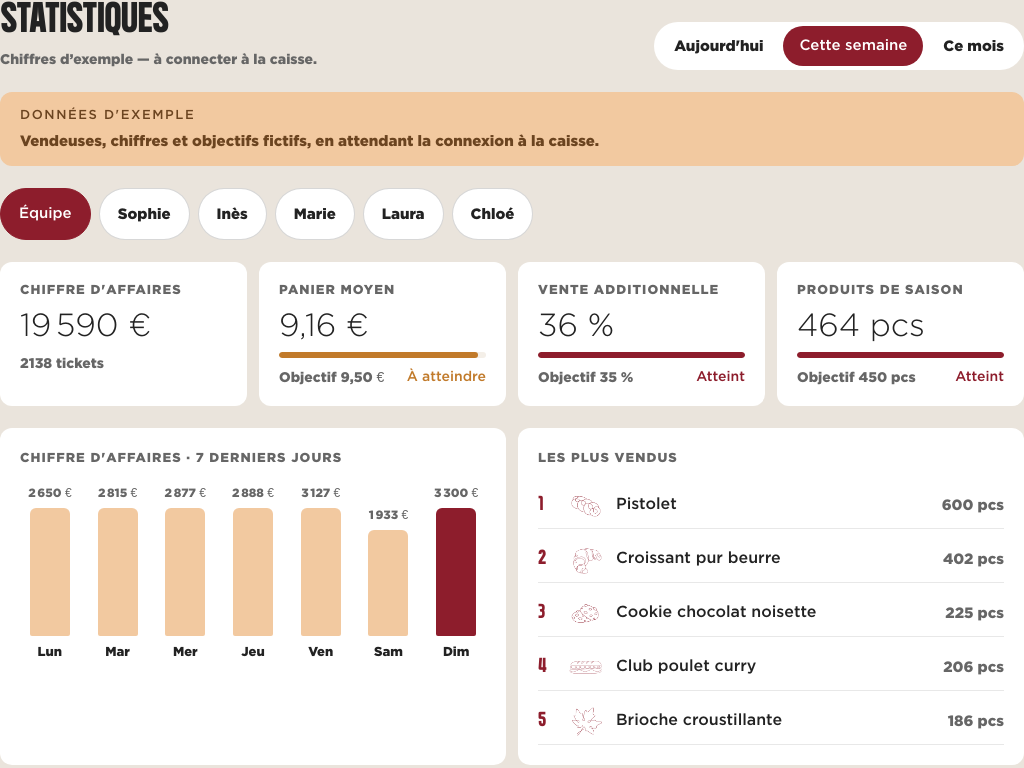
StatsView › period and seller chip update the store and the figures
Click the button "Aujourd'hui" at point(719, 46), box [658,26,779,66]
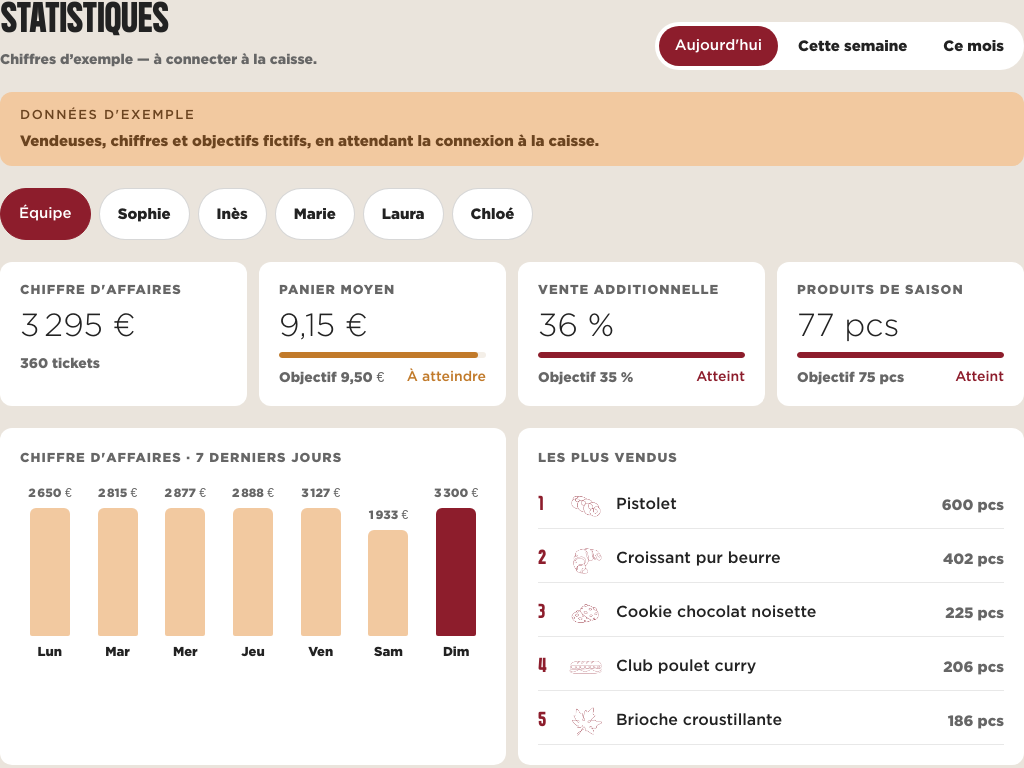
Click the button "Laura" at point(403, 214), box [363,188,444,240]
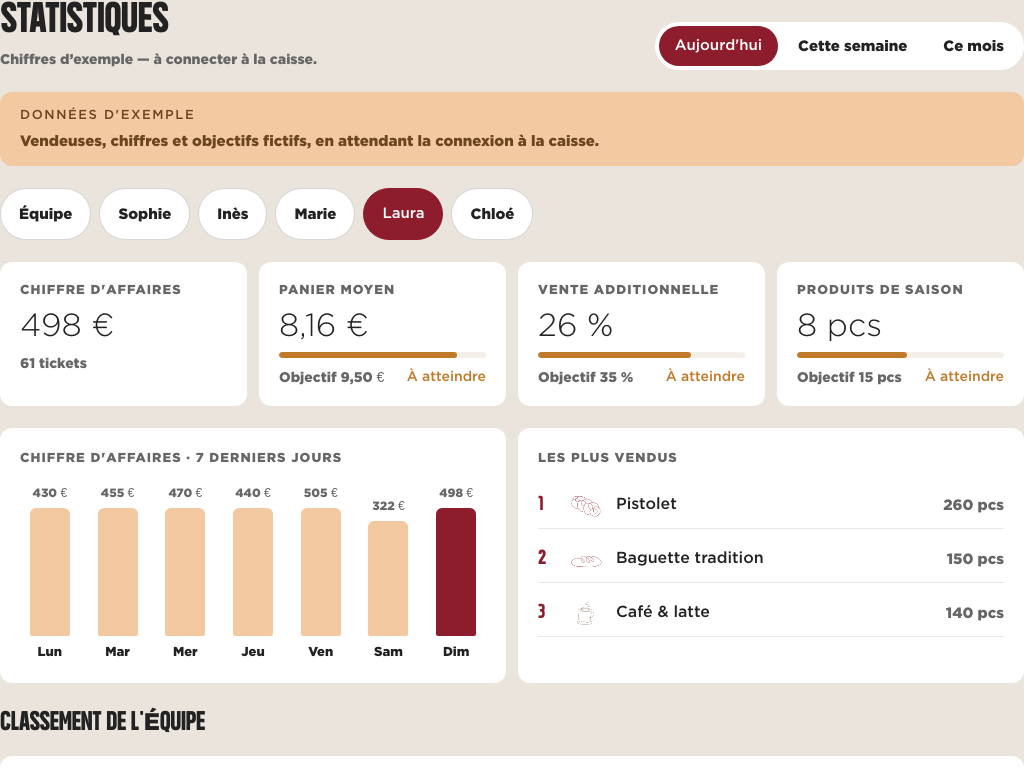
expect the text "61 tickets" is shown: met, box [20,352,87,374]
expect the text "Objectif 15 pcs" is shown: met, box [797,366,902,388]
expect the text "Atteint" is gone: met
